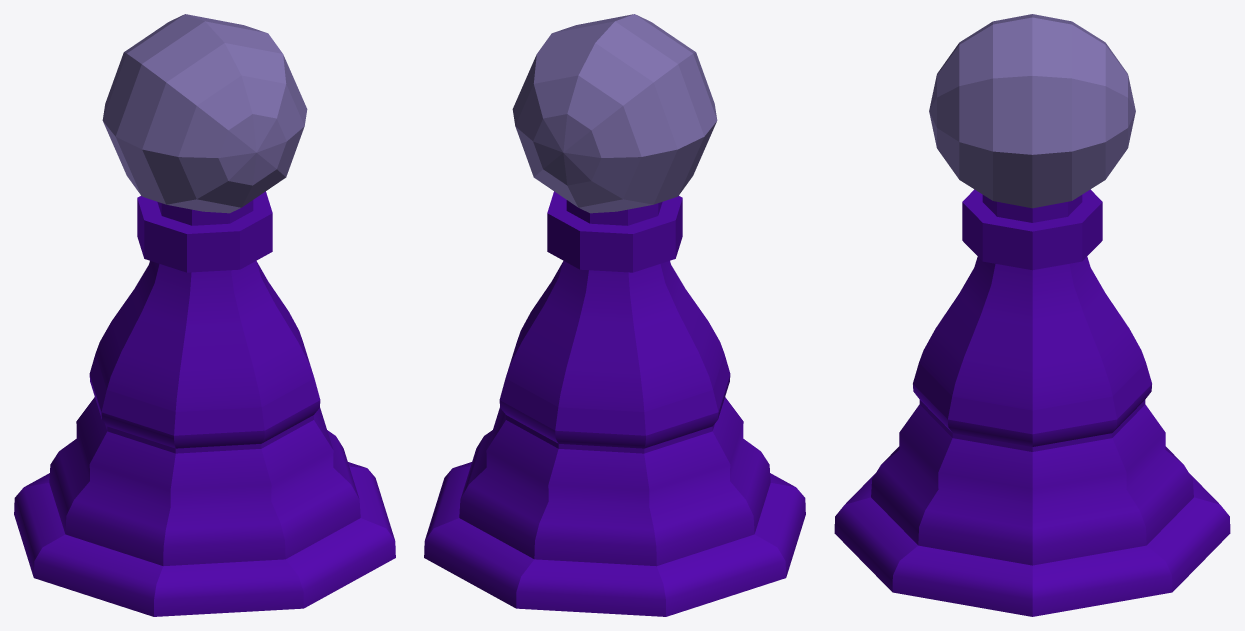
File: peon.fbx
3 views of the same model, side by side, from view 1: azimuth 30°, elevation 25°; view 2: azimuth 150°, elevation 25°; view 3: azimuth 270°, elevation 25° (orthographic).
Parts seen in each view (by area): view 1: peon, pSphere2; view 2: peon, pSphere2; view 3: peon, pSphere2.
Part boxes in pixels (<box>): peon: <box>14,191,395,616</box>; pSphere2: <box>102,14,307,213</box>; peon: <box>424,191,805,616</box>; pSphere2: <box>512,14,717,213</box>; peon: <box>834,189,1230,616</box>; pSphere2: <box>929,14,1135,208</box>.
Size of the model in its own units: 1.48 by 2.13 by 1.48.
